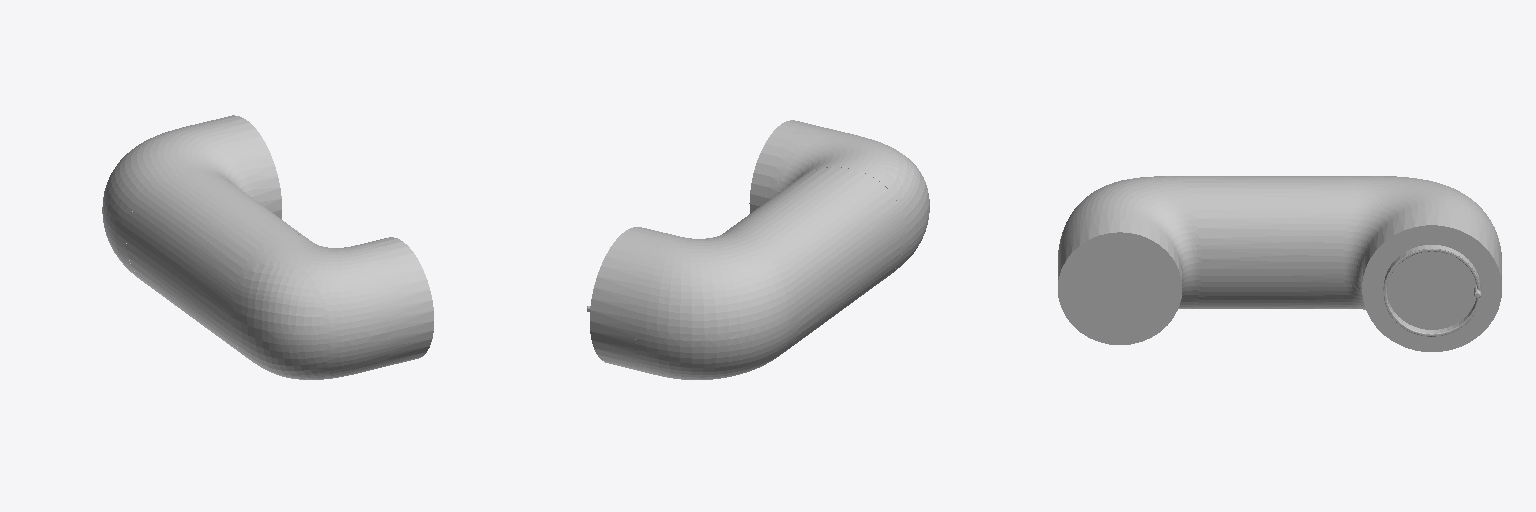
The model's file is joint4.obj.
The picture shows the model from 3 angles: view 1: azimuth 30°, elevation 25°; view 2: azimuth 150°, elevation 25°; view 3: azimuth 270°, elevation 25°; orthographic projection.
Size of the model in its own units: 0.0578 by 0.0432 by 0.1368.